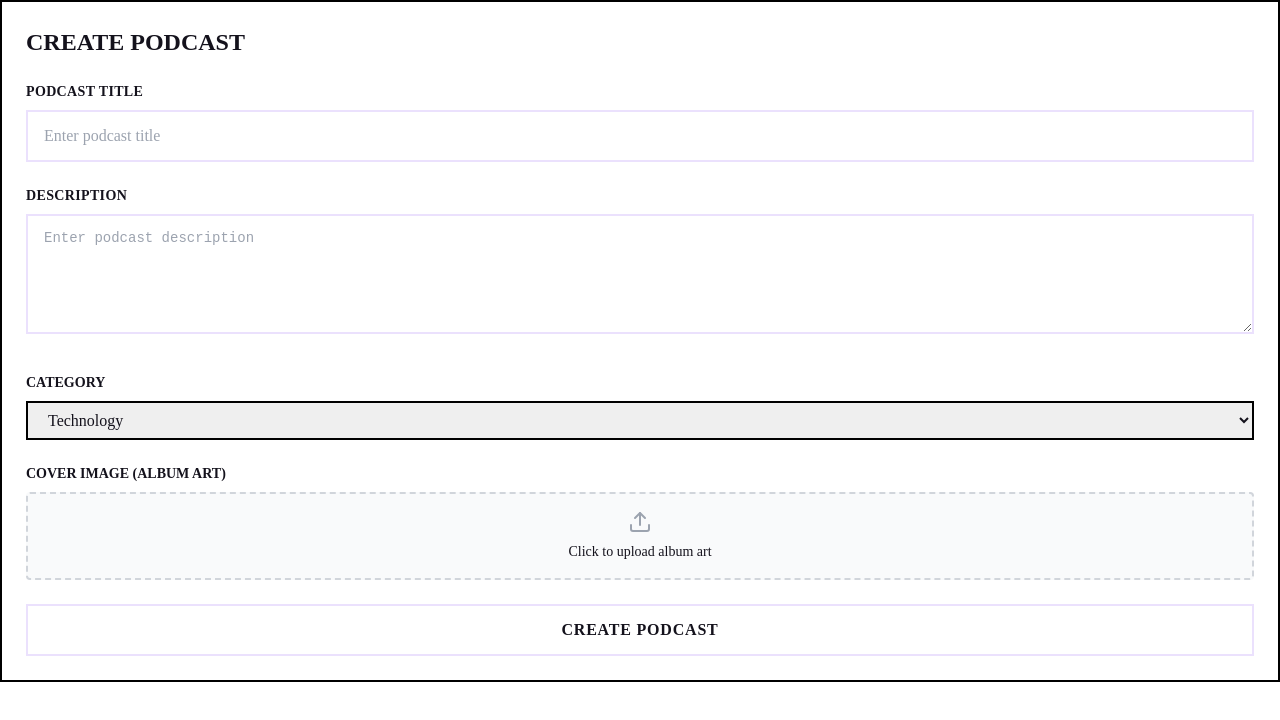
Test: CreatePodcastForm Component › should validate title length
Type "ab" into the field with placeholder "Enter podcast title" at (640, 136), box [26,110,1254,162]
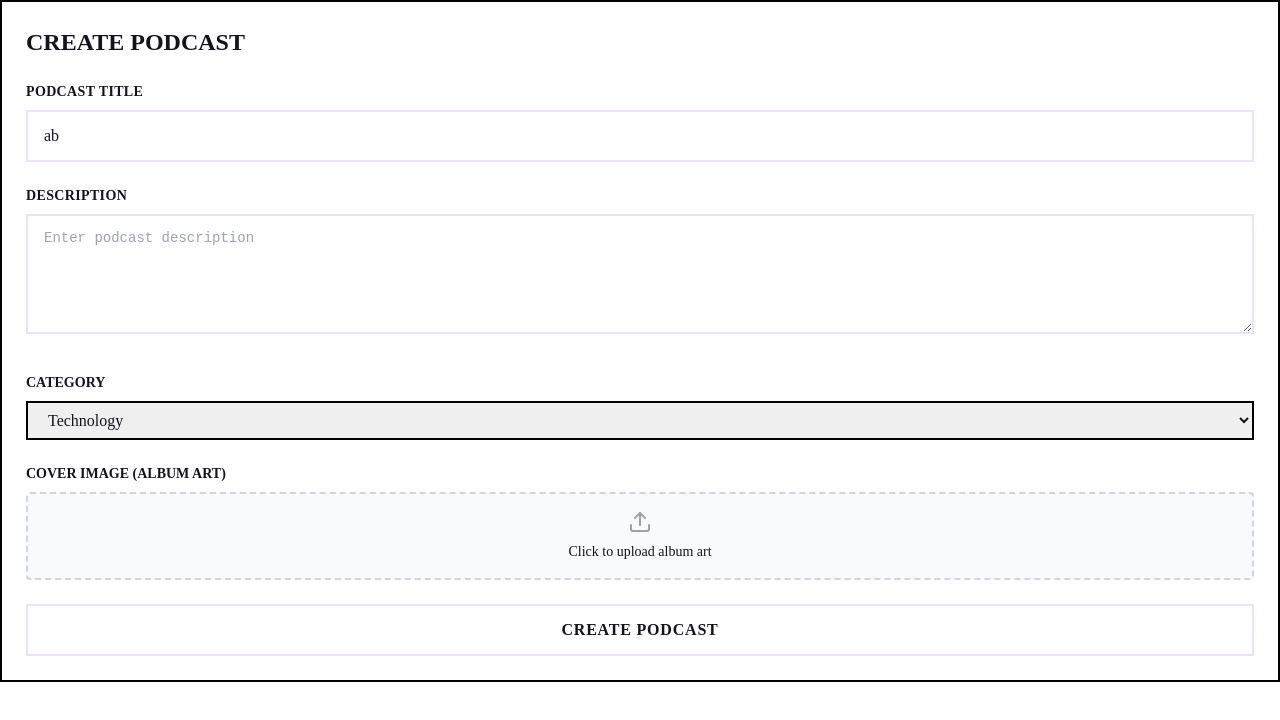
Click the button "Create Podcast" at (640, 630), box [26,604,1254,656]
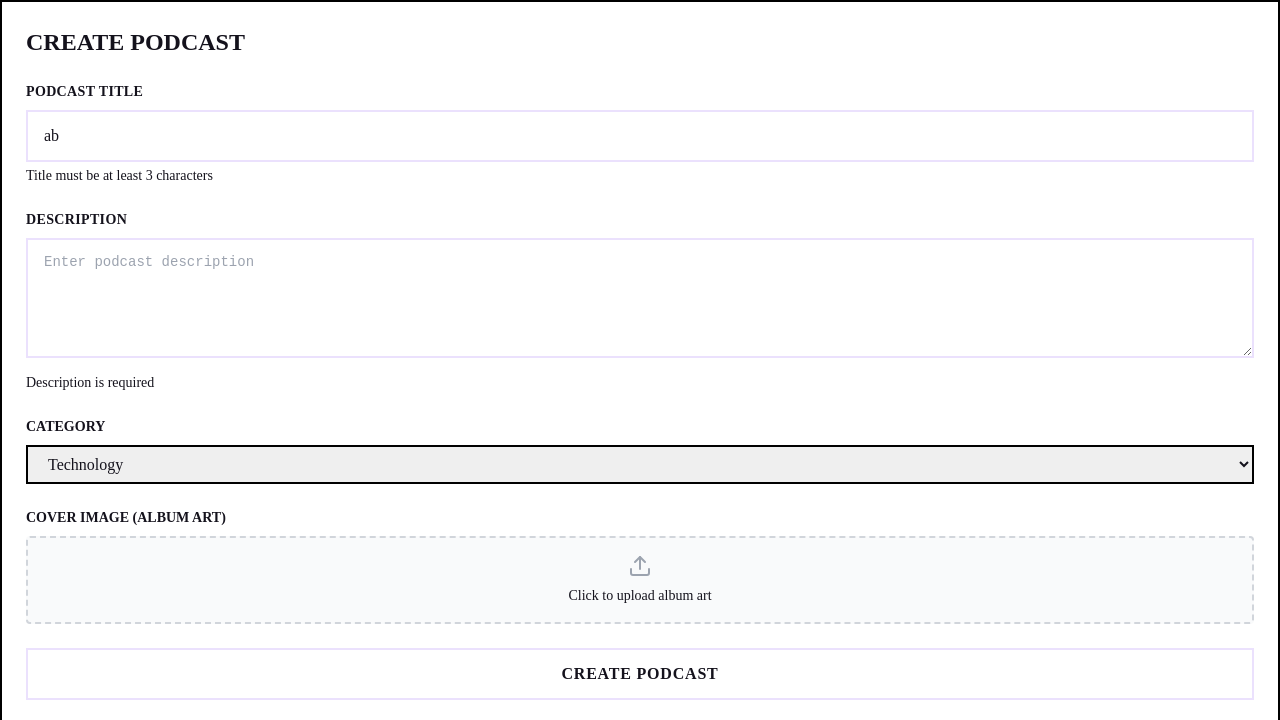
expect the text "Title must be at least 3 characters" is shown: met, box [26,168,213,183]
